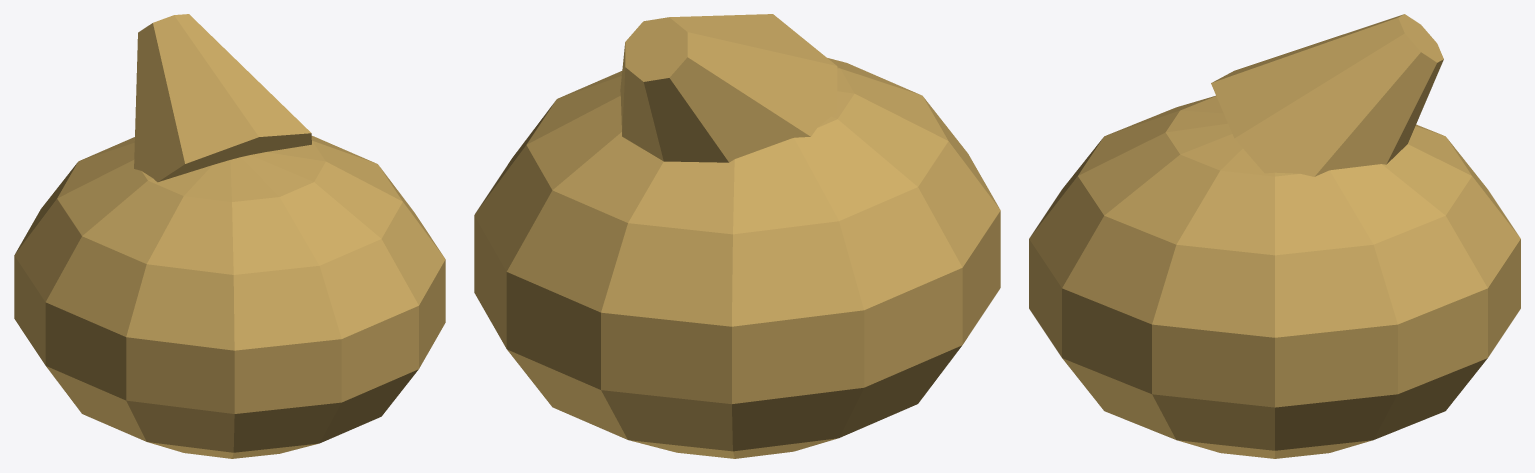
File: hat_cap.glb
3 renders of one model, left to right at view 1: azimuth 30°, elevation 25°; view 2: azimuth 150°, elevation 25°; view 3: azimuth 270°, elevation 25°, orthographic. The views are drawn at different scales.
Visible parts, largest first — view 1: hat_cap; view 2: hat_cap; view 3: hat_cap.
Boxes of the visible parts, box(x1,y1,x2,y2) form: hat_cap: box(14, 14, 445, 458); hat_cap: box(474, 14, 1000, 458); hat_cap: box(1029, 14, 1520, 458).
Size of the model in its own units: 0.2886 by 0.2807 by 0.303.
